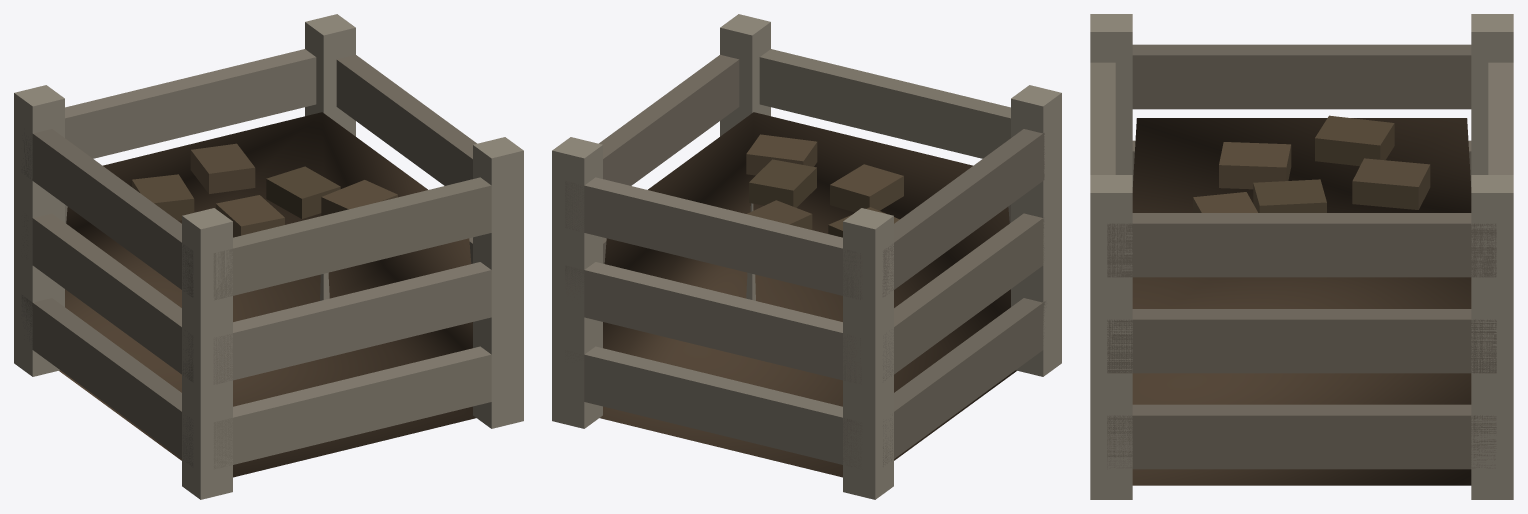
File: farm_compost_bin.glb
3 views of the same model, side by side, from view 1: azimuth 30°, elevation 25°; view 2: azimuth 150°, elevation 25°; view 3: azimuth 270°, elevation 25° (orthographic). The views are drawn at different scales.
Visible parts, largest first — view 1: FarmBody; view 2: FarmBody; view 3: FarmBody.
Part boxes in pixels (x1,y1,x2,y2): FarmBody: (14, 14, 523, 499); FarmBody: (552, 14, 1061, 499); FarmBody: (1090, 14, 1513, 499).
Bounding box in the file's own units: 1 × 0.8 × 1.
